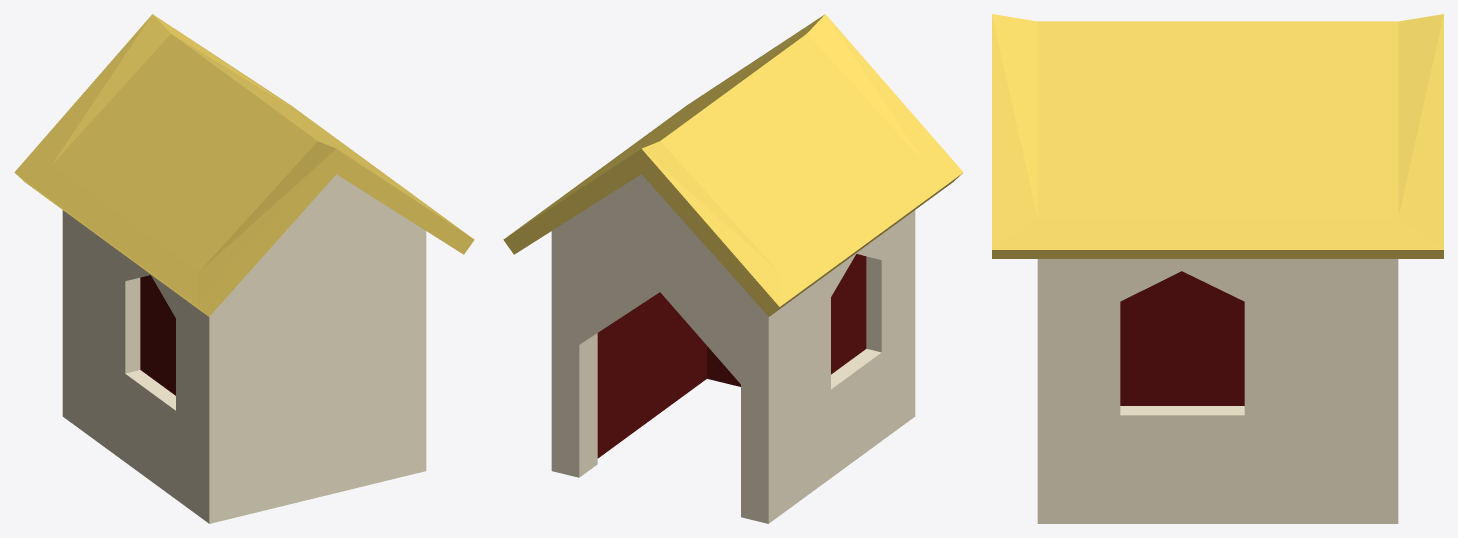
The model's file is house.fbx.
3 renders of one model, left to right at view 1: azimuth 30°, elevation 25°; view 2: azimuth 150°, elevation 25°; view 3: azimuth 270°, elevation 25°, orthographic. The views are drawn at different scales.
Visible parts, largest first — view 1: Cube; view 2: Cube; view 3: Cube.
Part boxes in pixels (x1,y1,x2,y2): Cube: (14,14,474,523); Cube: (503,14,963,523); Cube: (992,14,1443,523).
Bounding box in the file's own units: 2.55 × 3.2 × 2.94.
